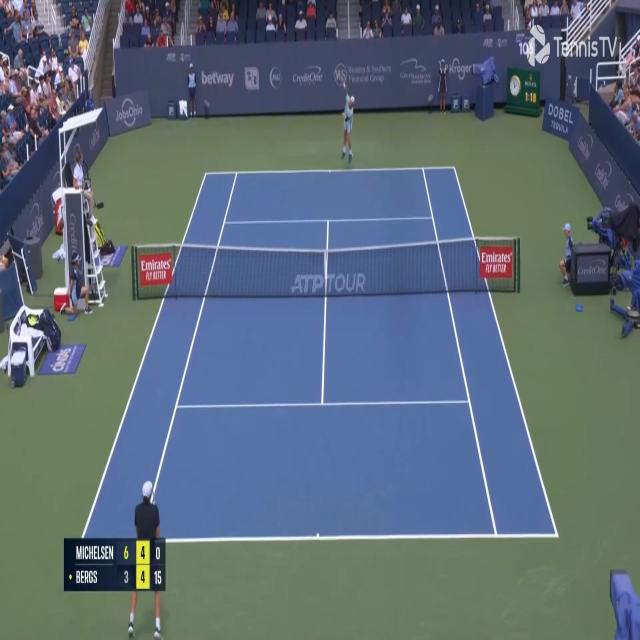tennis-player: (126, 477, 164, 639), (340, 92, 356, 163)
